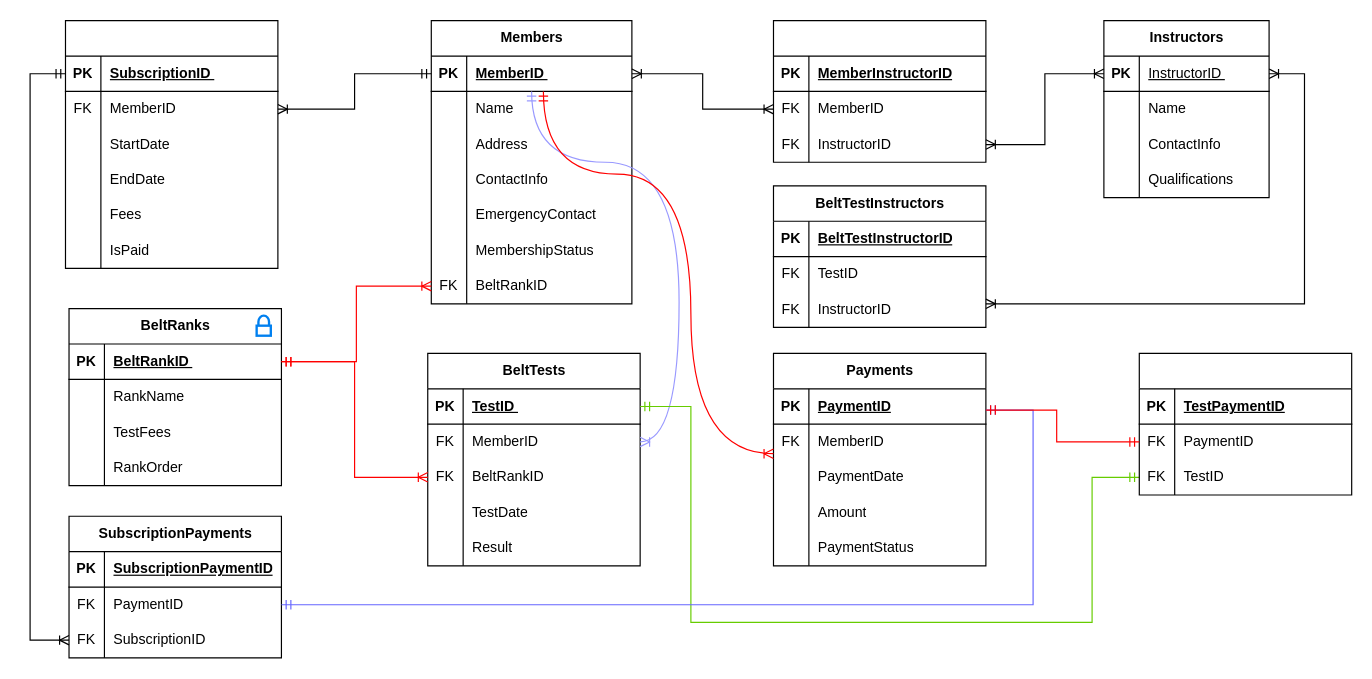
Some shapes in this 1372 by 679 pixel diagram are drawn without their labels. The box of each missing label's shape, as (x1, y1, x2, y2) in pixels:
MemberInstructors: (772, 19, 986, 162)
MemberSubscriptions: (64, 19, 278, 268)
TestPayments: (1138, 352, 1352, 495)
